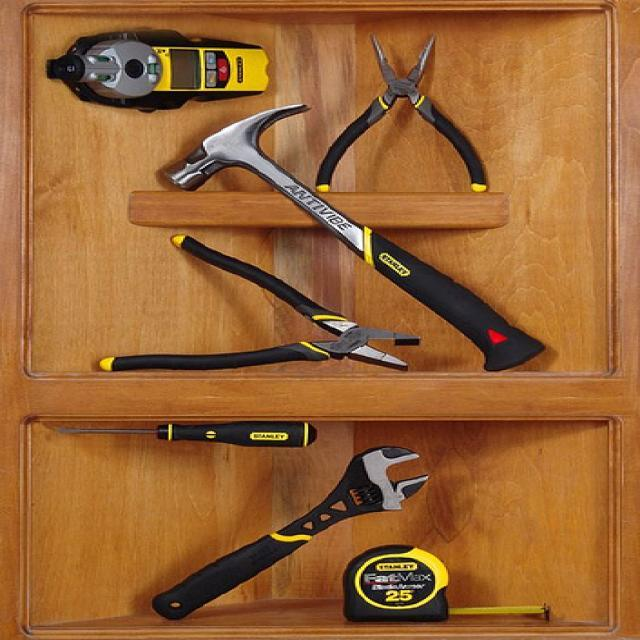hammer: (154, 97, 553, 376)
pliers: (84, 226, 430, 375), (306, 28, 502, 197)
screwdriver: (43, 412, 324, 458)
wrench: (142, 438, 438, 624)
